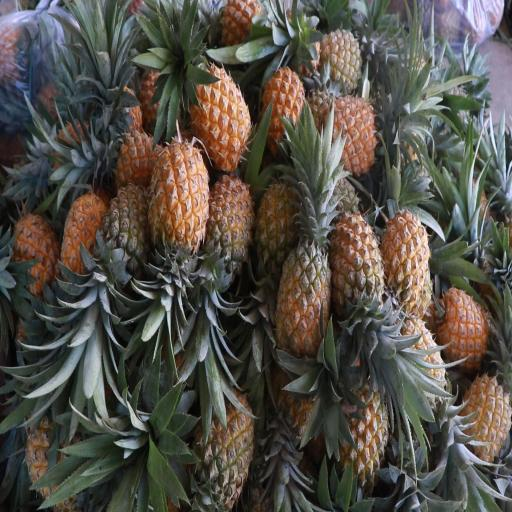------------------------------: (272, 221, 335, 362), (193, 383, 256, 512), (98, 174, 156, 278), (251, 174, 300, 289), (313, 21, 365, 100)
Pineapple - v8 v1: (147, 136, 214, 270), (187, 56, 252, 172), (328, 199, 386, 318), (376, 206, 432, 327), (333, 372, 393, 484), (202, 162, 256, 281), (313, 83, 383, 173), (6, 197, 60, 304), (259, 50, 311, 156), (60, 182, 109, 290), (434, 283, 493, 372), (459, 362, 512, 458)
